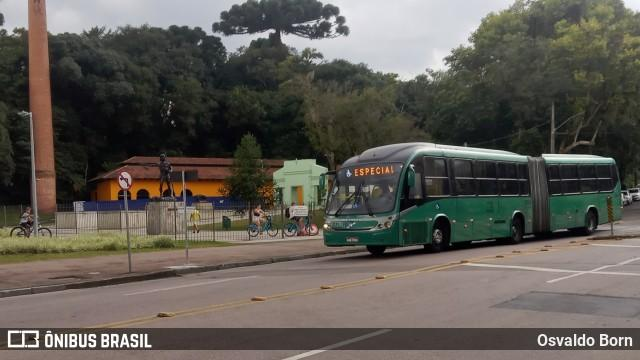ESPECIAL: (351, 164, 396, 180)
